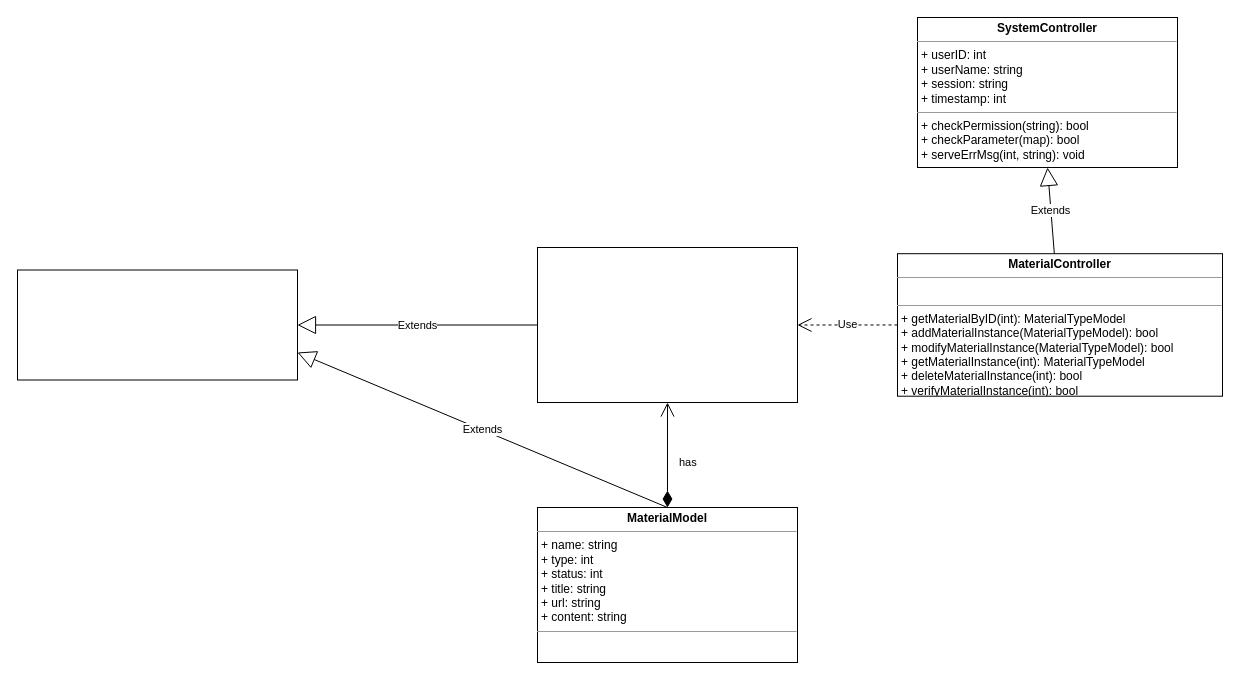
Some shapes in this 1240 by 680 pixel diagram are drawn without their labels. Here are the shapes that lost their labels. From the top down, the centre of each, then its label:
the point at 157,324: SystemModel + ID: int + new(): SystemModel + get(): SystemModel + set(): bool
the point at 667,324: MaterialTypeModel + name: string + status: int + materials: MaterialModel[]
